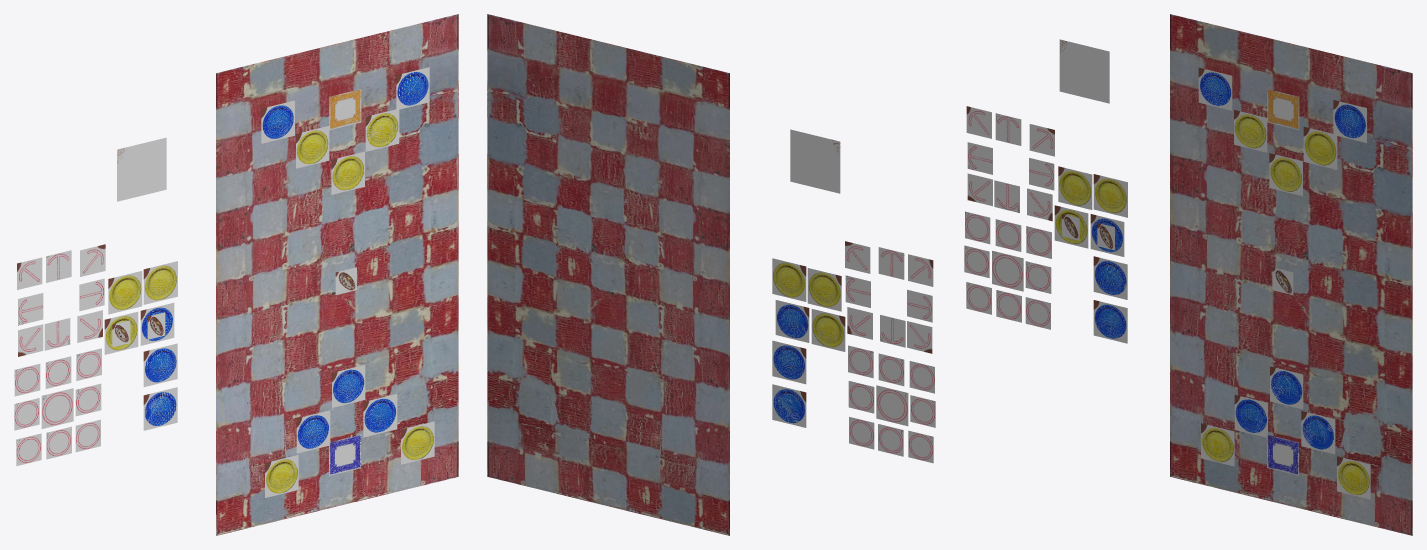
The model's file is Board5Scene.dae.
The picture shows the model from 3 angles, left to right: view 1: azimuth 30°, elevation 25°; view 2: azimuth 150°, elevation 25°; view 3: azimuth 330°, elevation 25°; orthographic projection.
Visible parts, largest first — view 1: Board03, Transparent, Blue07, Red07, Red06, Blue06, Blue03, Blue02, Red03, Red05, Blue05, Blue04 (+25 smaller); view 2: Board03, Transparent, Blue07, Red07, Blue06, Red06, RedBeanObject, BlueBeanObject, YellowFlare, PossibleN, PossibleE, PossibleW_1 (+13 smaller); view 3: Board03, Transparent, Blue06, Blue07, Red07, Blue03, Red06, Blue05, Red03, Red05, Red04, Blue01 (+25 smaller).
Boxes of the visible parts, left/top/right/bottom form: Board03: left=216, top=14, right=458, bottom=535; Transparent: left=117, top=137, right=166, bottom=201; Blue07: left=143, top=387, right=177, bottom=430; Red07: left=143, top=261, right=177, bottom=304; Red06: left=108, top=271, right=142, bottom=314; Blue06: left=143, top=343, right=177, bottom=386; Blue03: left=363, top=394, right=397, bottom=437; Blue02: left=296, top=410, right=330, bottom=453; Red03: left=365, top=109, right=399, bottom=151; Red05: left=401, top=421, right=434, bottom=464; Blue05: left=261, top=100, right=294, bottom=143; Blue04: left=396, top=67, right=429, bottom=110; Board03: left=487, top=14, right=729, bottom=535; Transparent: left=790, top=129, right=840, bottom=193; Blue07: left=772, top=384, right=806, bottom=427; Red07: left=772, top=258, right=806, bottom=301; Blue06: left=772, top=340, right=806, bottom=384; Red06: left=807, top=268, right=841, bottom=311; RedBeanObject: left=811, top=309, right=845, bottom=351; BlueBeanObject: left=775, top=300, right=809, bottom=342; YellowFlare: left=876, top=385, right=908, bottom=426; PossibleN: left=878, top=353, right=904, bottom=386; PossibleE: left=848, top=381, right=874, bottom=413; PossibleW_1: left=878, top=247, right=904, bottom=279; Board03: left=1170, top=14, right=1412, bottom=535; Transparent: left=1059, top=39, right=1109, bottom=103; Blue06: left=1093, top=256, right=1127, bottom=299; Blue07: left=1093, top=300, right=1127, bottom=343; Red07: left=1093, top=174, right=1127, bottom=217; Blue03: left=1301, top=411, right=1335, bottom=454; Red06: left=1058, top=166, right=1092, bottom=209; Blue05: left=1198, top=67, right=1232, bottom=110; Red03: left=1303, top=127, right=1337, bottom=169; Red05: left=1337, top=456, right=1370, bottom=499; Red04: left=1201, top=423, right=1234, bottom=466; Blue01: left=1270, top=366, right=1303, bottom=409.
Size of the model in its own units: 66.49 by 2.32 by 65.85.
11 materials, 11 textured.
